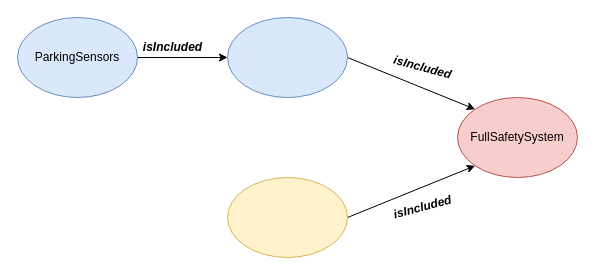
Image size: 595x275. Some labels were removed from this diagram. Each missing label, with the centre of its shape:
"BlindSpotMonitor" goes at (x=287, y=217).
"ParkingAssistant" goes at (x=287, y=57).
